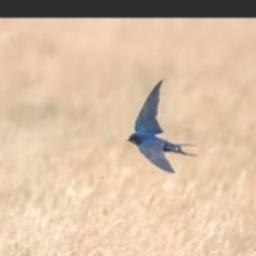Swallow: (127, 79, 196, 172)
